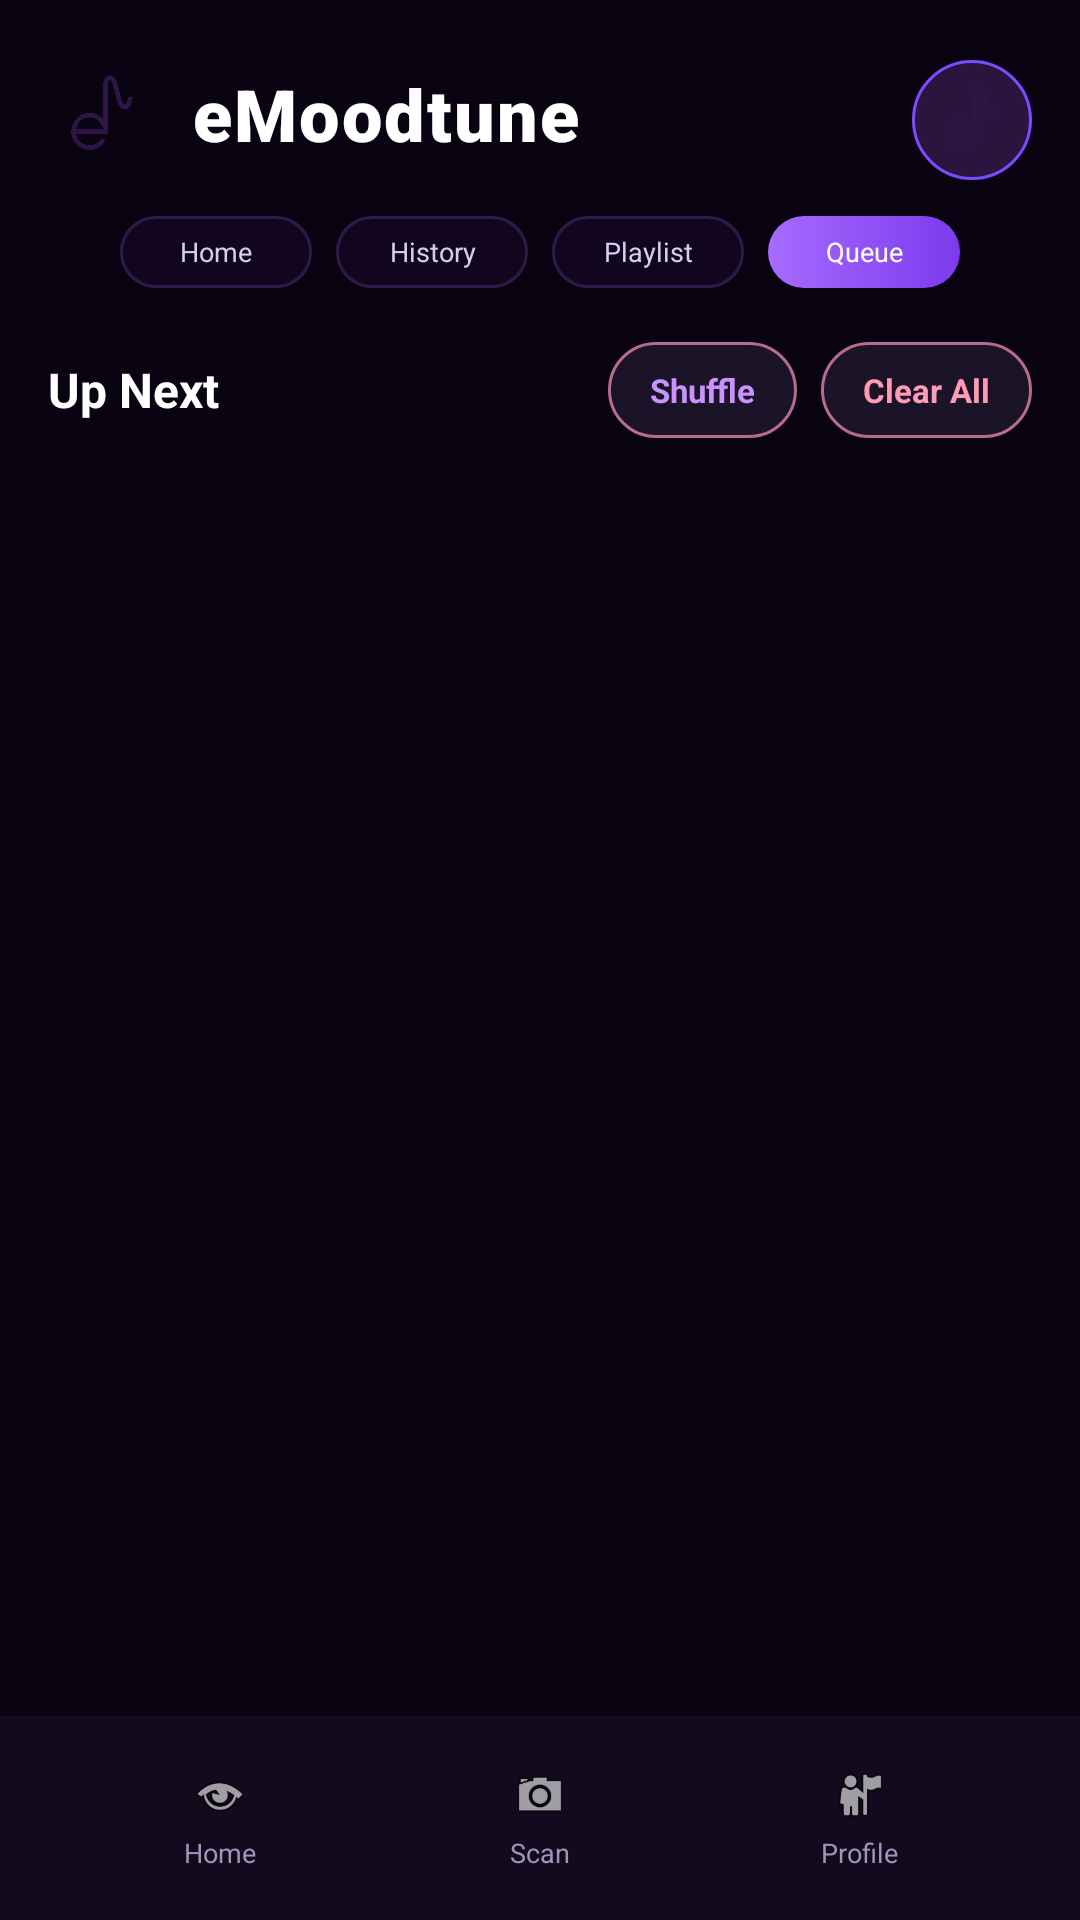

Screen size 1080px×1920px. Icon name, then its center in pixels as (x=x, y=y):
myplaces: (x=860, y=1795)
